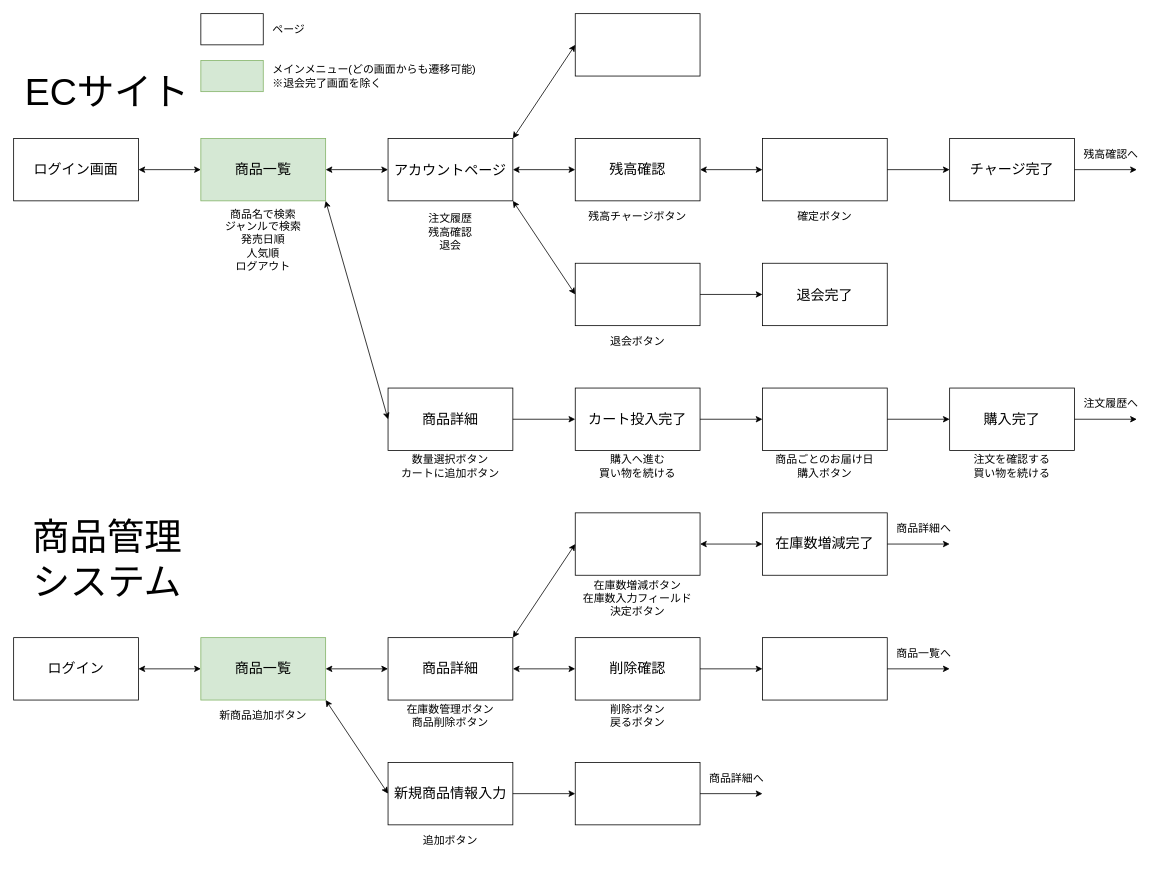
Some shapes in this 1158 by 870 pixel diagram are drawn without their labels. The shapes that lost their labels are listed below. From the top down, each one's centre as x and y in pixels, then its label:
At (637,44): "注文履歴".
At (824,169): "残高チャージ".
At (637,294): "退会確認".
At (824,418): "注文内容確認".
At (637,543): "在庫数管理".
At (824,668): "削除完了".
At (637,793): "商品追加完了".
